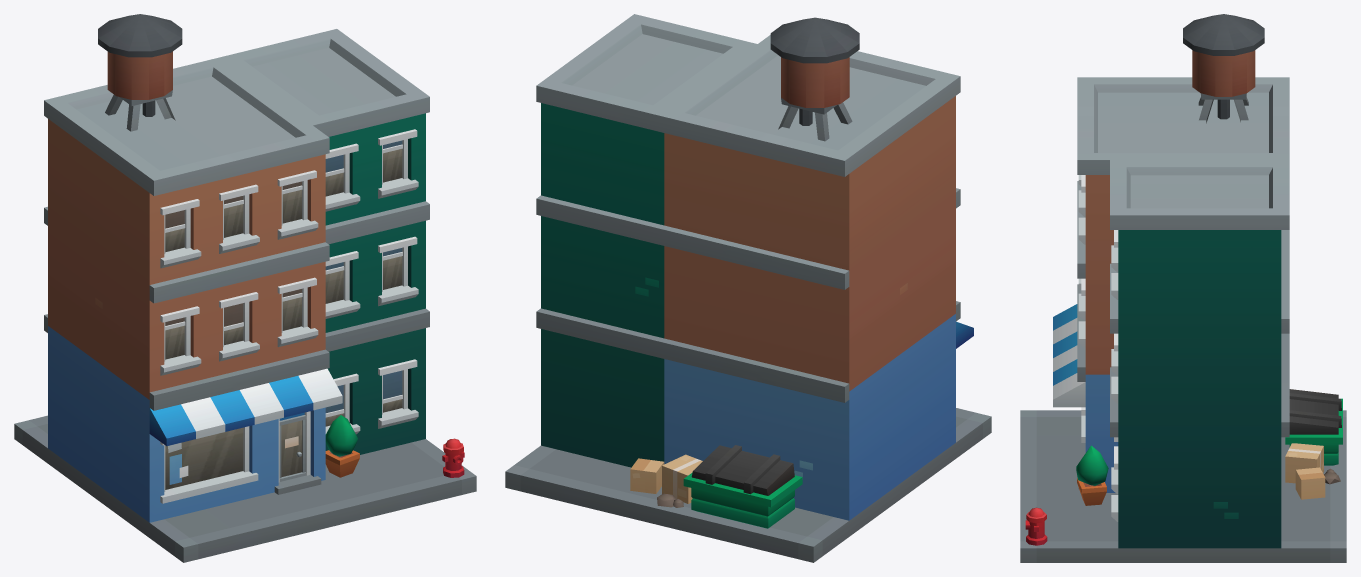
Rendered from shop-green.glb.
3 renders of one model, left to right at view 1: azimuth 30°, elevation 25°; view 2: azimuth 150°, elevation 25°; view 3: azimuth 270°, elevation 25°, orthographic. The views are drawn at different scales.
Parts seen in each view (by area): view 1: building_G; view 2: building_G; view 3: building_G.
Part boxes in pixels (x1,y1,x2,y2): building_G: (14,14,476,562); building_G: (505,14,991,562); building_G: (1020,14,1346,562).
Bounding box in the file's own units: 2.01 × 2.98 × 2.
1 material, 1 textured.
